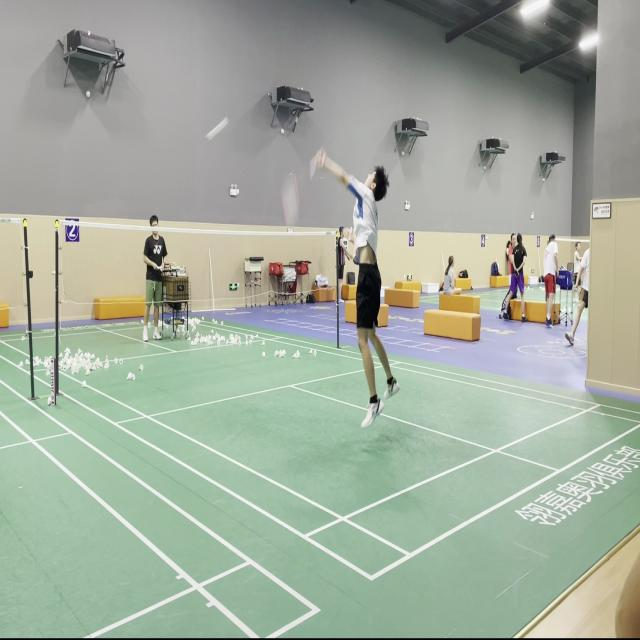shuttlecock: (205, 115, 229, 141)
